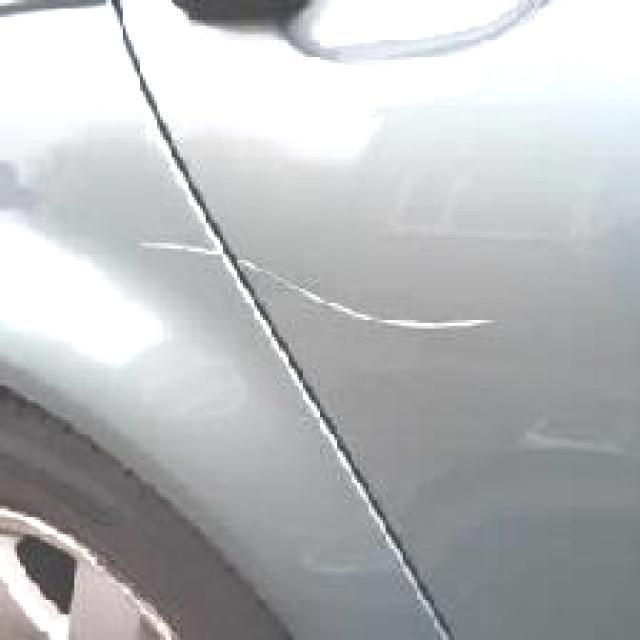minor: (119, 224, 535, 350)
